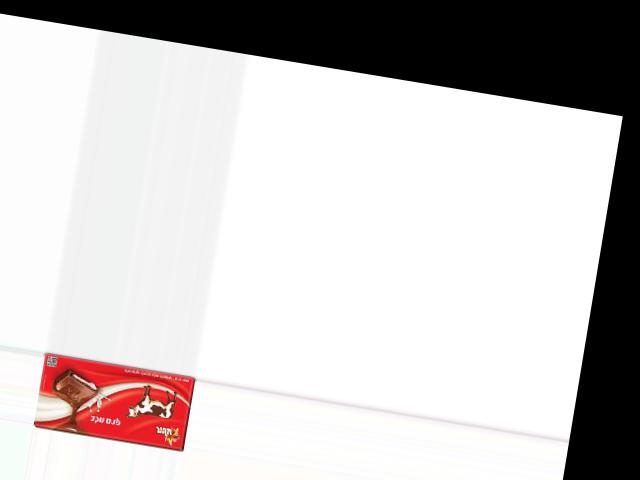chocolate: (33, 351, 198, 452)
